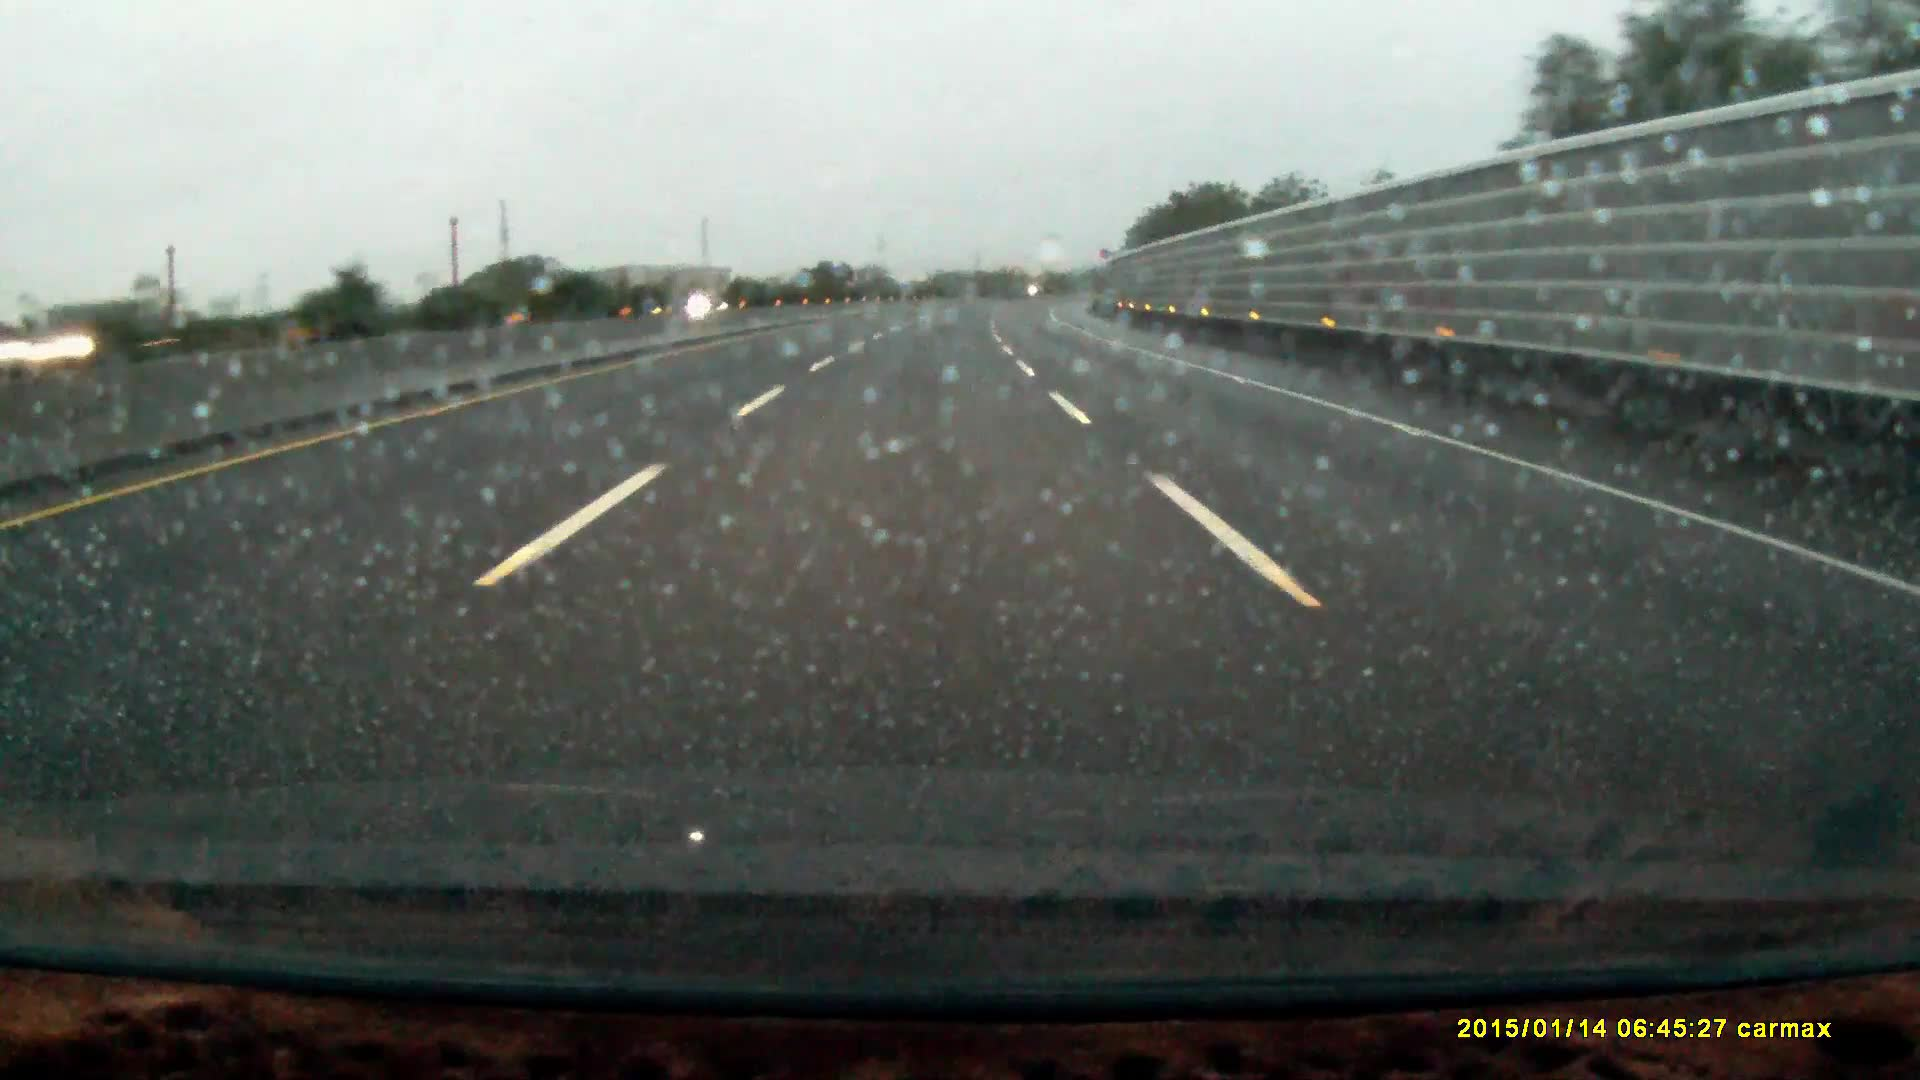vehicle: (678, 287, 735, 311)
